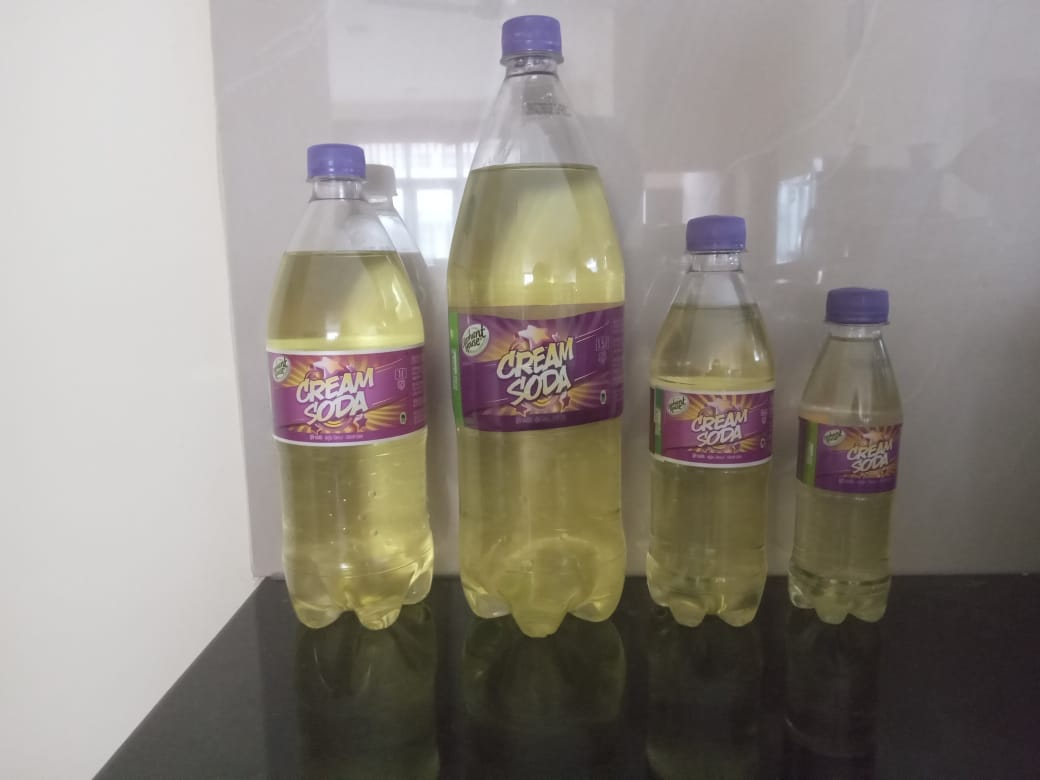L: (435, 11, 640, 640)
M: (259, 137, 446, 636)
S: (648, 213, 781, 633)
Xs: (789, 285, 908, 627)
